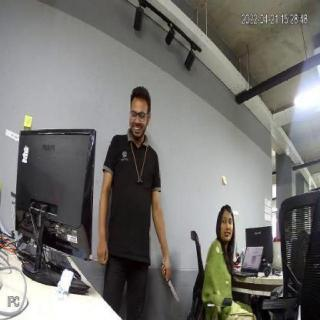knife: (162, 267, 182, 305)
